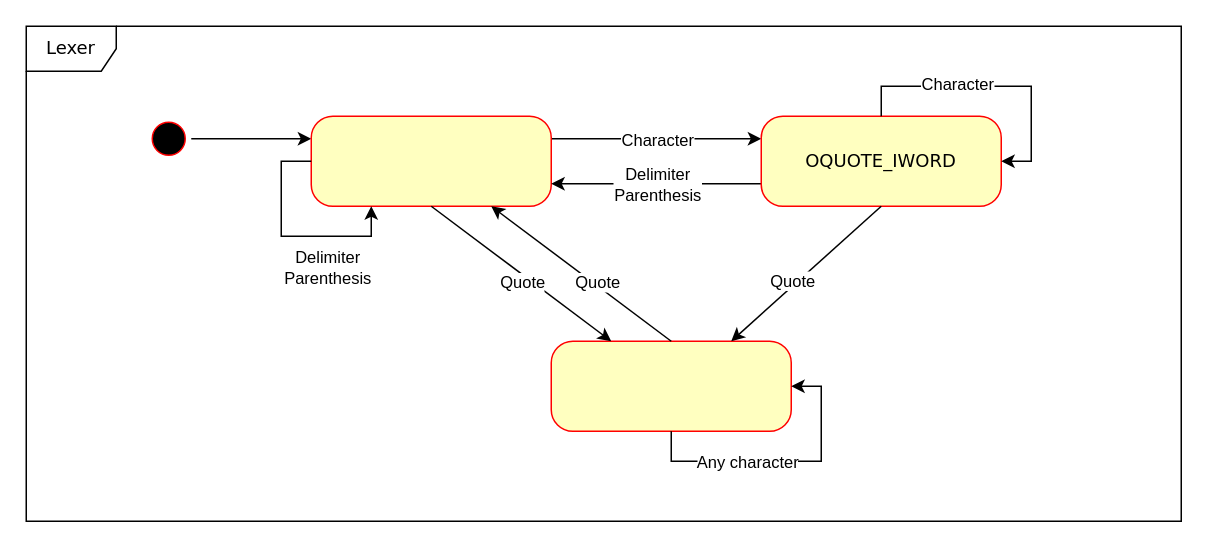
This 1208x548 diagram has some shape labels left out. The shapes that lost their labels are listed below. From the top down, each one's box as (x1, y1, x2, y2) in pixels, then its label:
(310, 115, 551, 206): OQUOTE_OWORD
(550, 340, 791, 431): IQUOTE_IWORD
